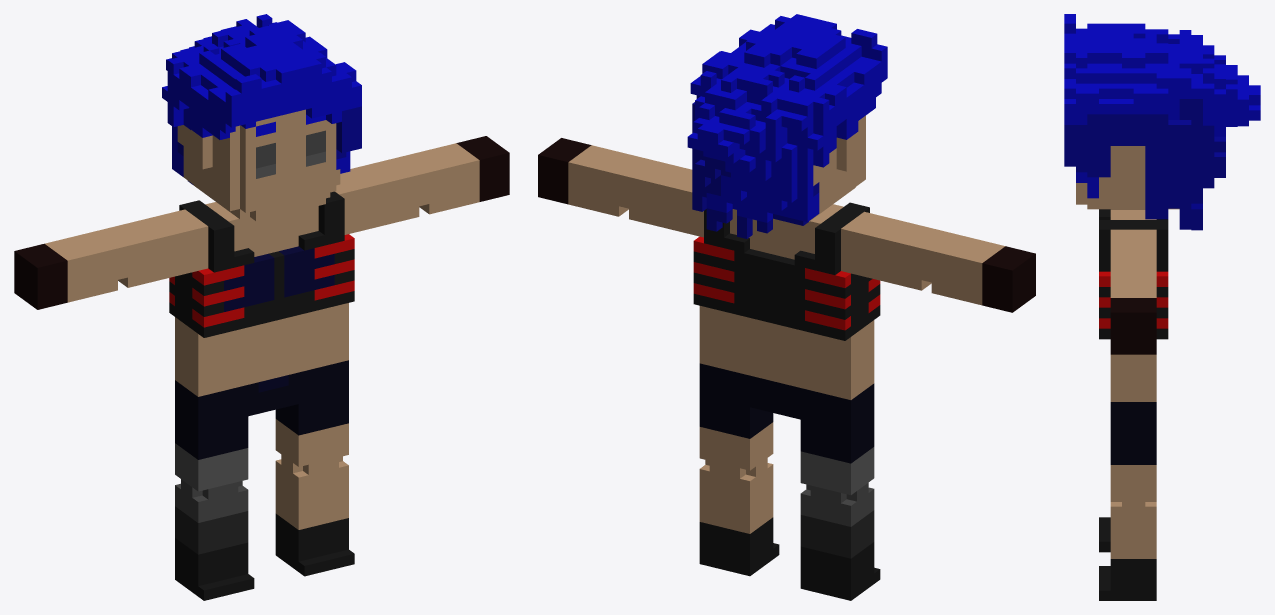
The model's file is character12.obj.
The picture shows the model from 3 angles, left to right: view 1: azimuth 30°, elevation 25°; view 2: azimuth 150°, elevation 25°; view 3: azimuth 270°, elevation 25°; orthographic projection.
Size of the model in its own units: 4.7 by 5 by 1.7.
Materials: 1 (1 with a texture image).
